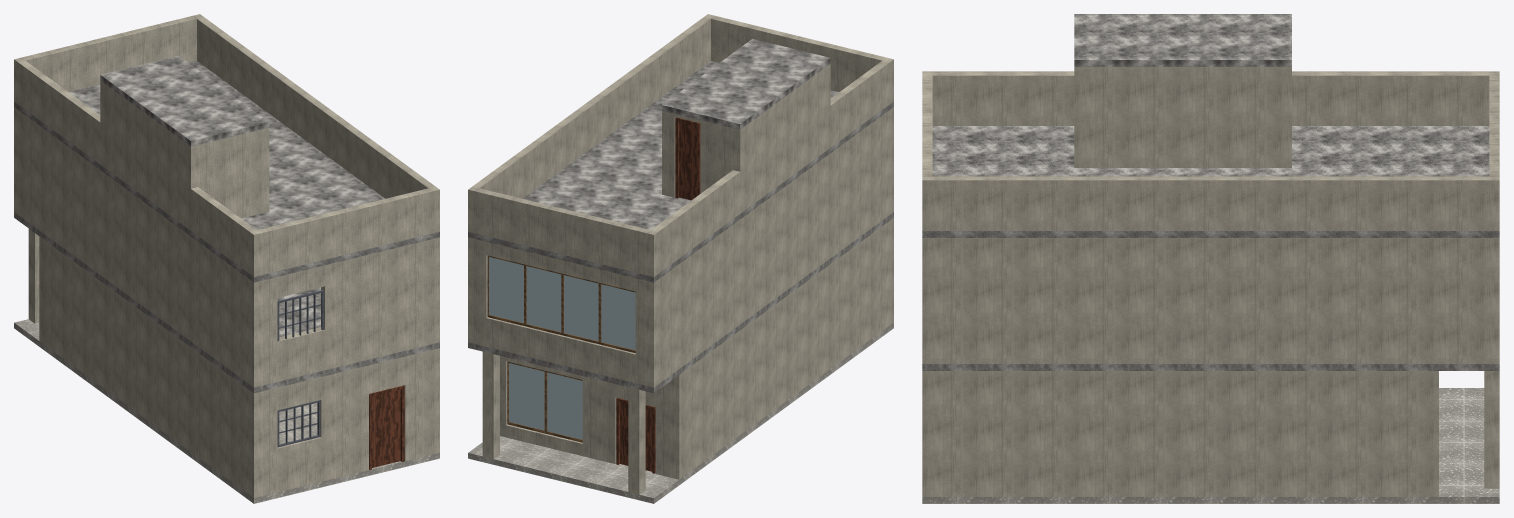
Rendered from neighbor_house_1960.fbx.
3 views of the same model, side by side, from view 1: azimuth 30°, elevation 25°; view 2: azimuth 150°, elevation 25°; view 3: azimuth 270°, elevation 25° (orthographic). The views are drawn at different scales.
Parts seen in each view (by area): view 1: neighbor_house_1960; view 2: neighbor_house_1960; view 3: neighbor_house_1960.
Part boxes in pixels (left/top/right/bottom): neighbor_house_1960: left=14, top=14, right=439, bottom=503; neighbor_house_1960: left=468, top=14, right=893, bottom=503; neighbor_house_1960: left=922, top=14, right=1499, bottom=503.
Size of the model in its own units: 510 by 830 by 1140.
